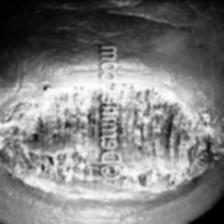Toxin: (0, 74, 101, 182), (118, 76, 208, 186)
